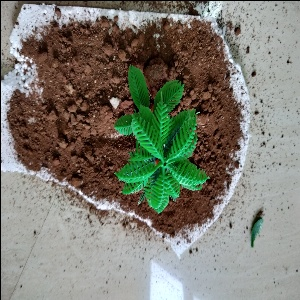plant: (124, 68, 193, 206)
